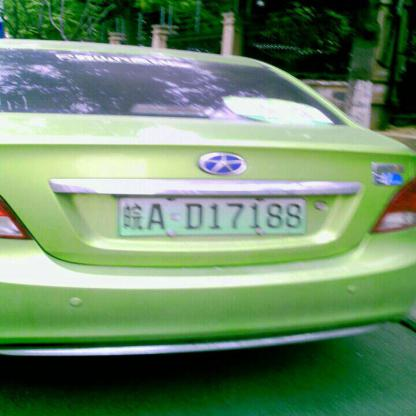lp: (120, 198, 306, 233)
